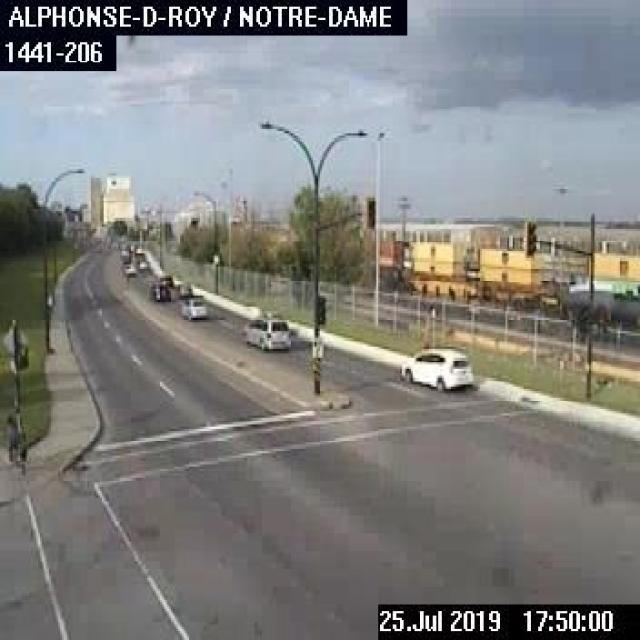pedestrian: (2, 413, 19, 464)
vehicle: (396, 347, 474, 391), (242, 313, 293, 351), (178, 290, 207, 320), (150, 272, 174, 304), (134, 256, 148, 275), (122, 260, 137, 276)
